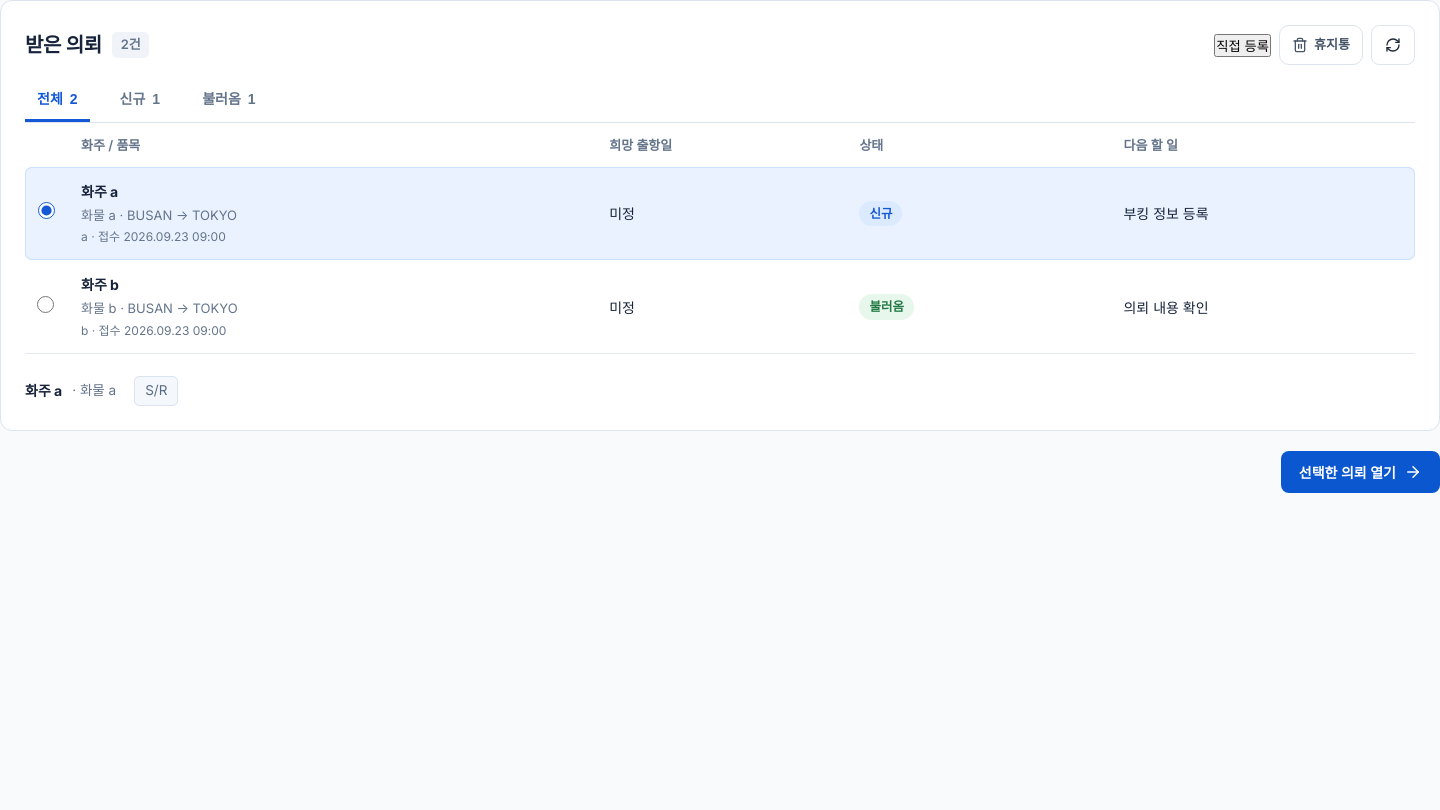
Test: 받은 수출 의뢰 — 왼쪽으로 밀어 목록에서 삭제 › 지운 의뢰는 휴지통에 모이고, 하나씩 복원할 수 있다
The width and height of the screenshot is (1440, 810).
Press the mouse on the row that starts with "화주 a" at (720,213), box top-left (25, 166), bottom-right (1415, 260)
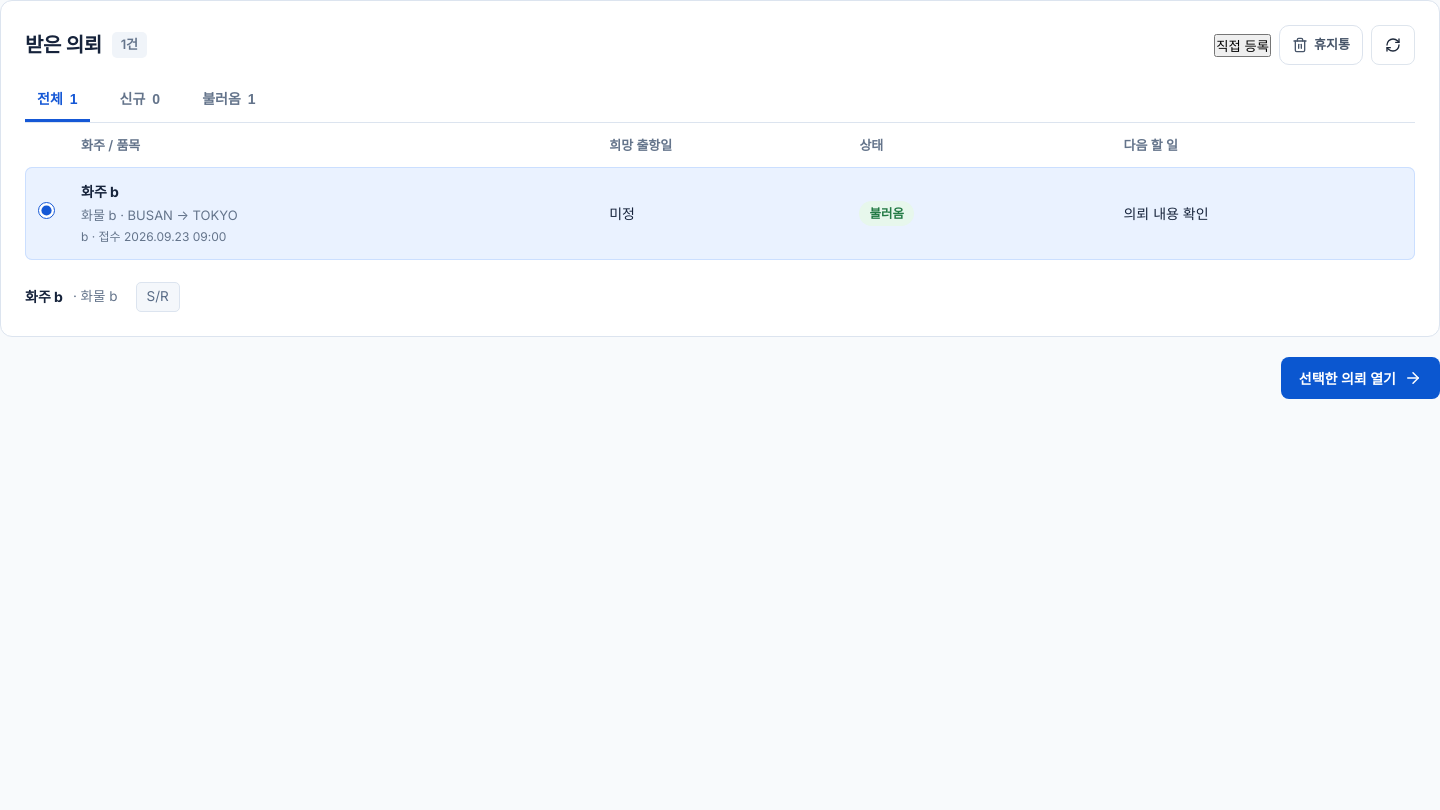
Press the mouse on the row that starts with "화주 b" at (720,213), box top-left (25, 166), bottom-right (1415, 260)
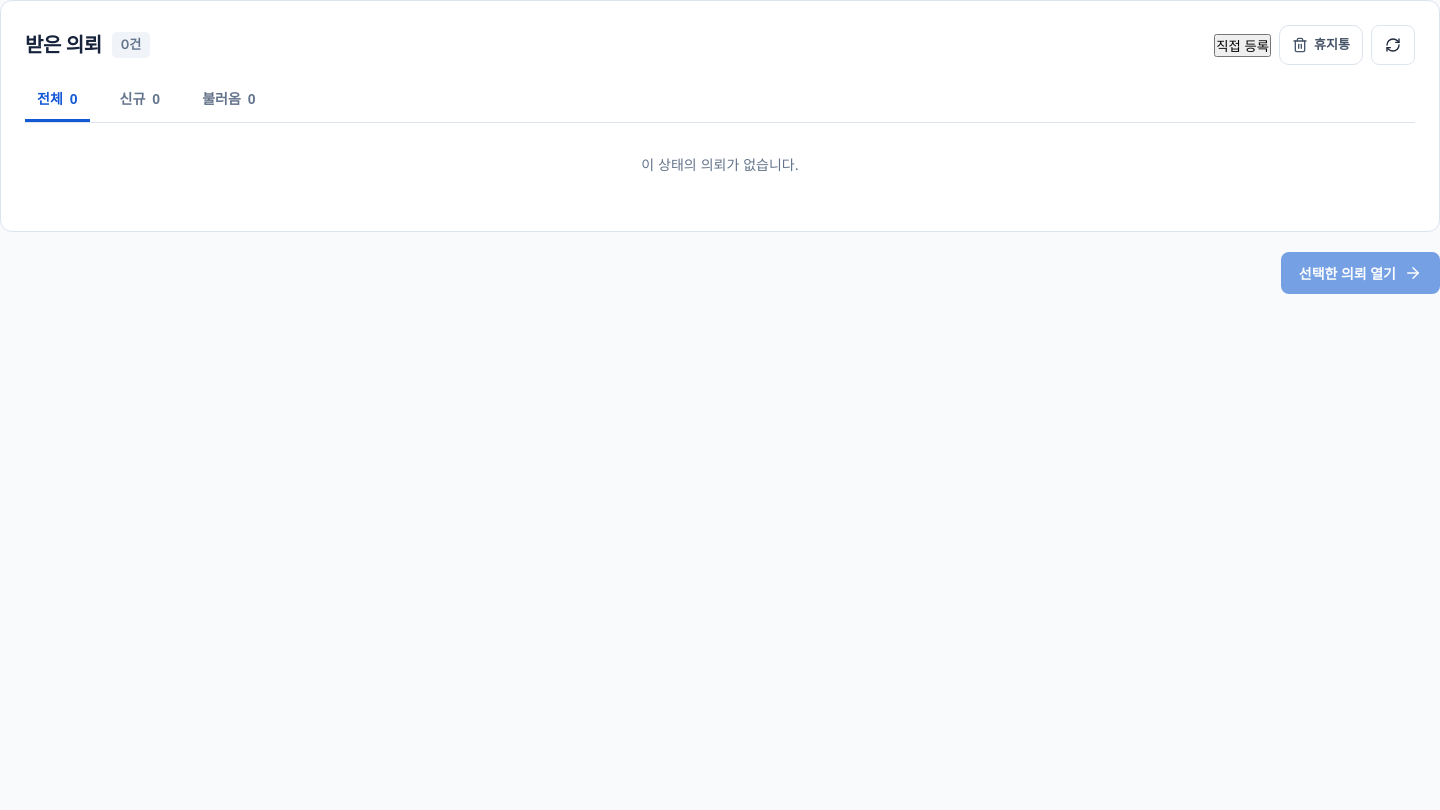
Check: no rows are shown
Click the button with class "trash-open" at (1321,45), box top-left (1279, 25), bottom-right (1363, 65)
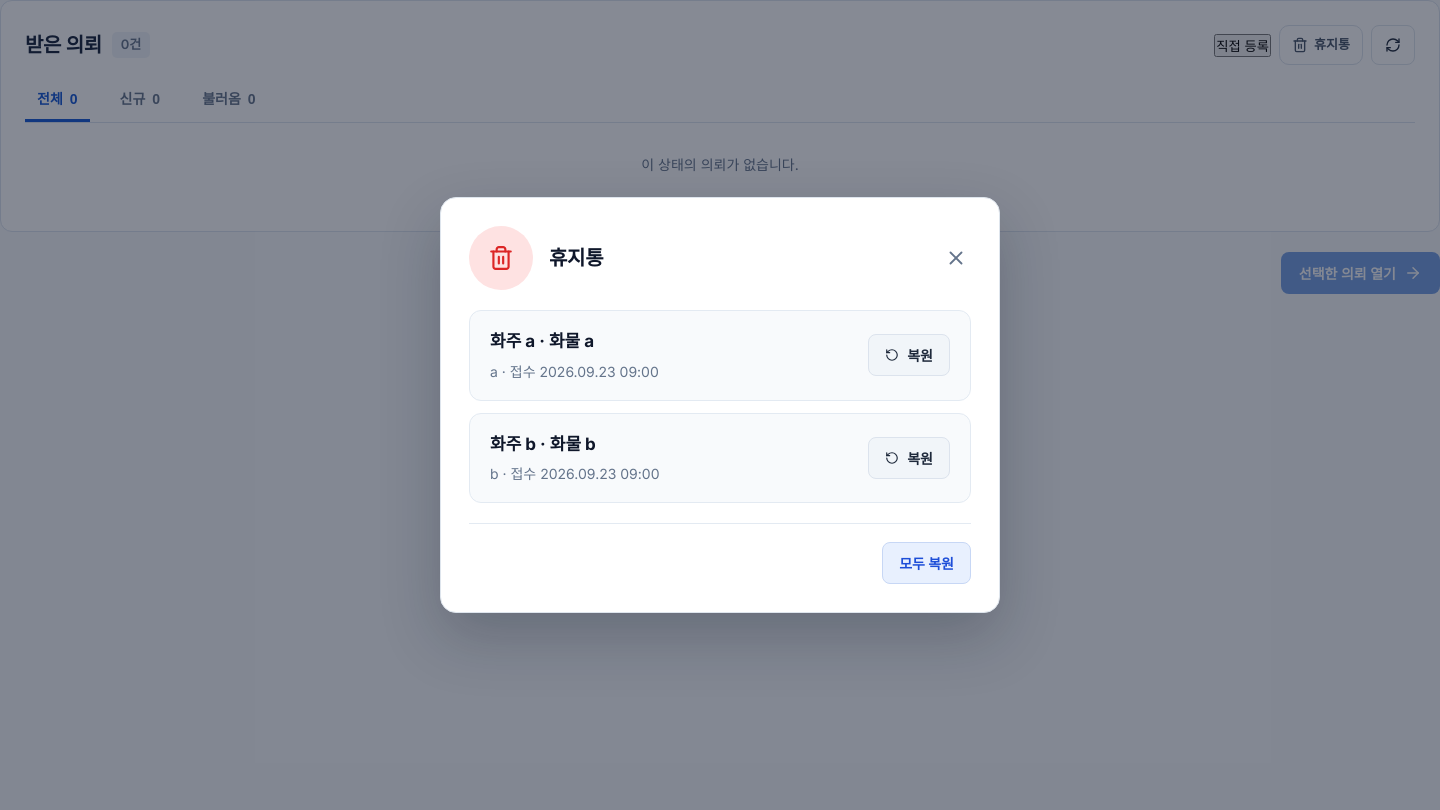
Click the button "복원" in the row of "화주 a · 화물 a" at (909,355), box top-left (868, 334), bottom-right (950, 376)
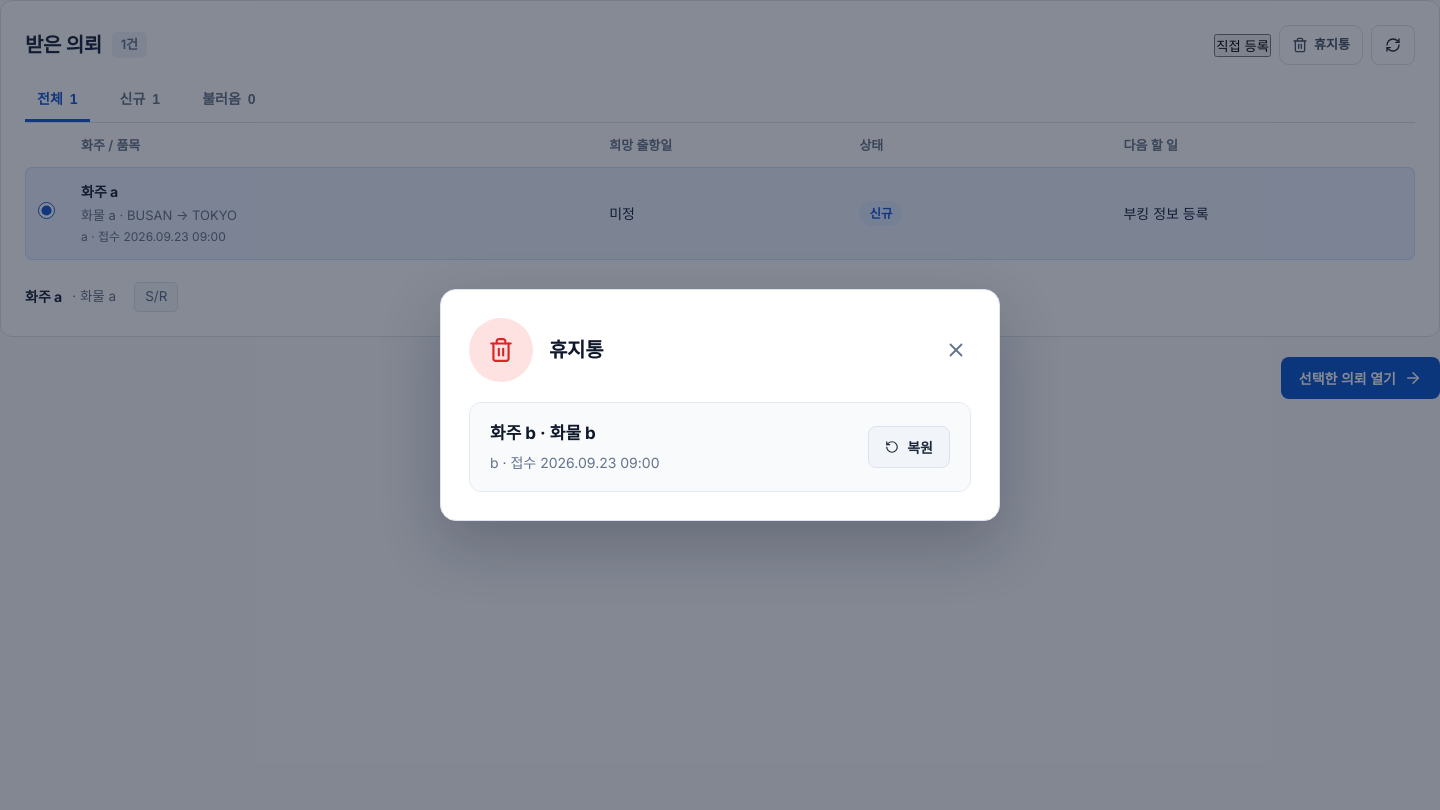
Check: the row is shown, box top-left (25, 166), bottom-right (1415, 260)
